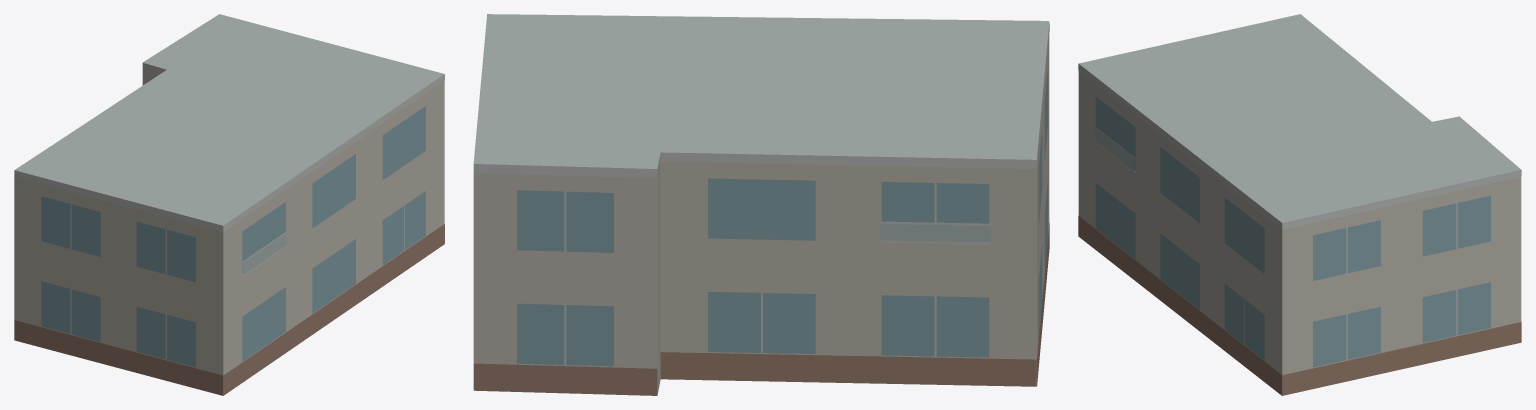
The model's file is survey-upis-32786649.glb.
3 renders of one model, left to right at view 1: azimuth 30°, elevation 25°; view 2: azimuth 150°, elevation 25°; view 3: azimuth 270°, elevation 25°, orthographic. The views are drawn at different scales.
Visible parts, largest first — view 1: survey-upis-32786649.tmp; view 2: survey-upis-32786649.tmp; view 3: survey-upis-32786649.tmp.
Boxes of the visible parts, x1,y1,x2,y2 form: survey-upis-32786649.tmp: [14, 14, 444, 395]; survey-upis-32786649.tmp: [473, 14, 1049, 395]; survey-upis-32786649.tmp: [1078, 14, 1521, 395].
Size of the model in its own units: 15.82 by 6.1 by 14.17.
